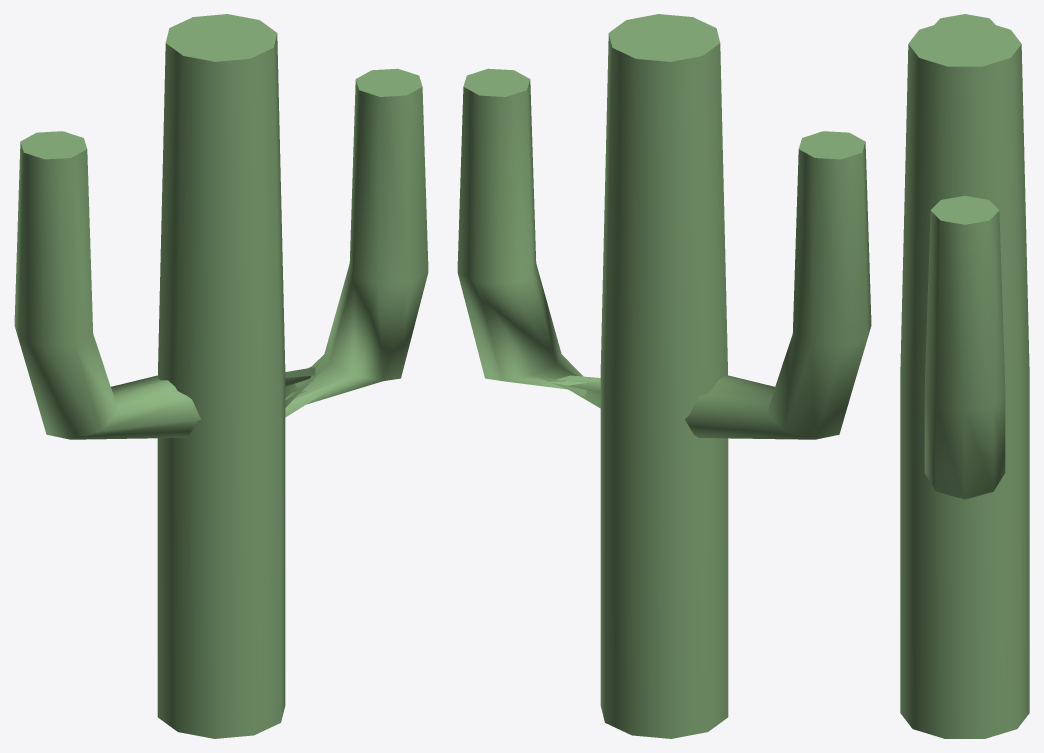
File: cactus_b.glb
The picture shows the model from 3 angles, left to right: view 1: azimuth 30°, elevation 25°; view 2: azimuth 150°, elevation 25°; view 3: azimuth 270°, elevation 25°; orthographic projection.
Visible parts, largest first — view 1: Cactus; view 2: Cactus; view 3: Cactus.
Part boxes in pixels (box(x1,y1,x2,y2)): Cactus: box(14, 14, 428, 738); Cactus: box(457, 14, 871, 738); Cactus: box(900, 14, 1029, 738).
Bounding box in the file's own units: 2.3 × 3.65 × 0.64.
